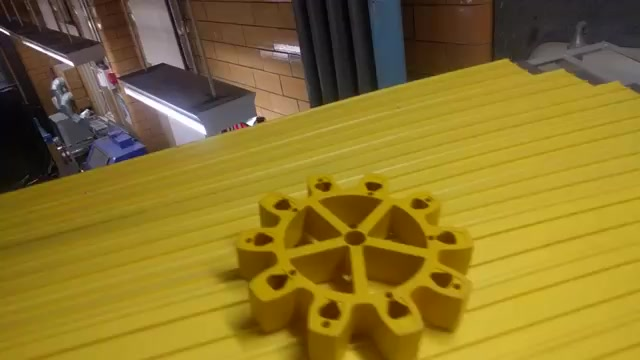gear: (231, 159, 480, 360)
